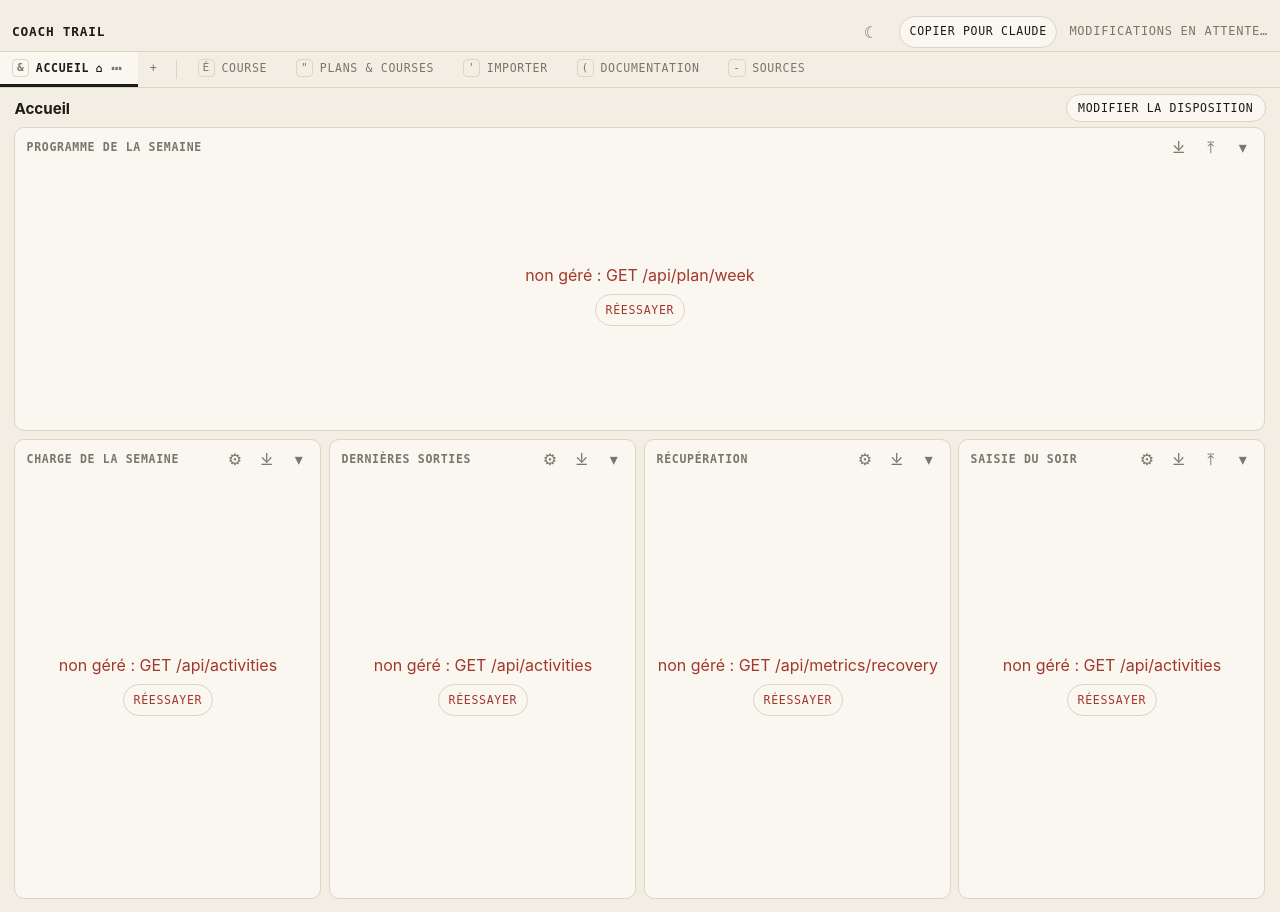
Test case: Menu ⋯ d'une page › se ferme avec Échap
Click the button named "Nouvelle page" at {"x": 154, "y": 70}, box [138,52,169,87]
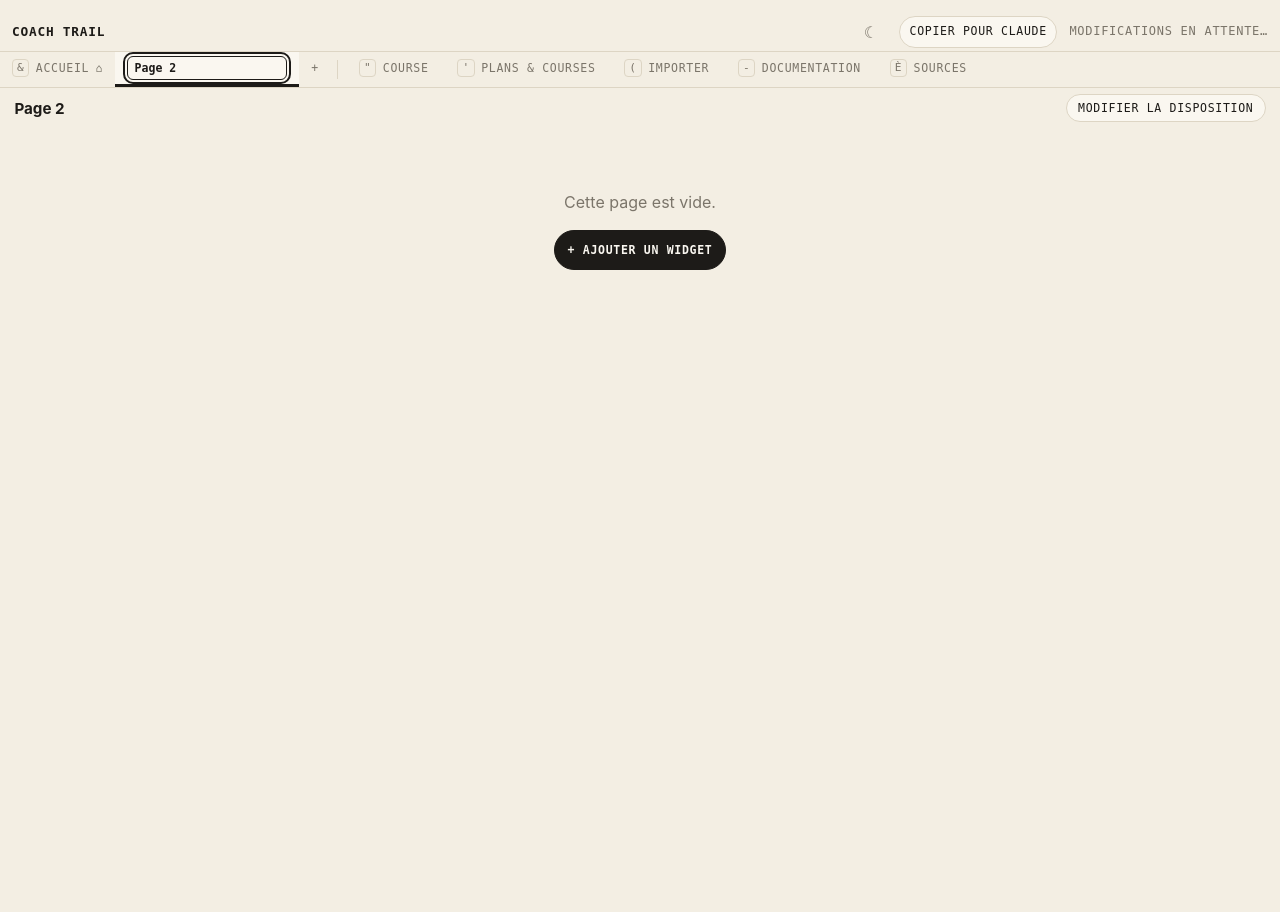
Press Enter
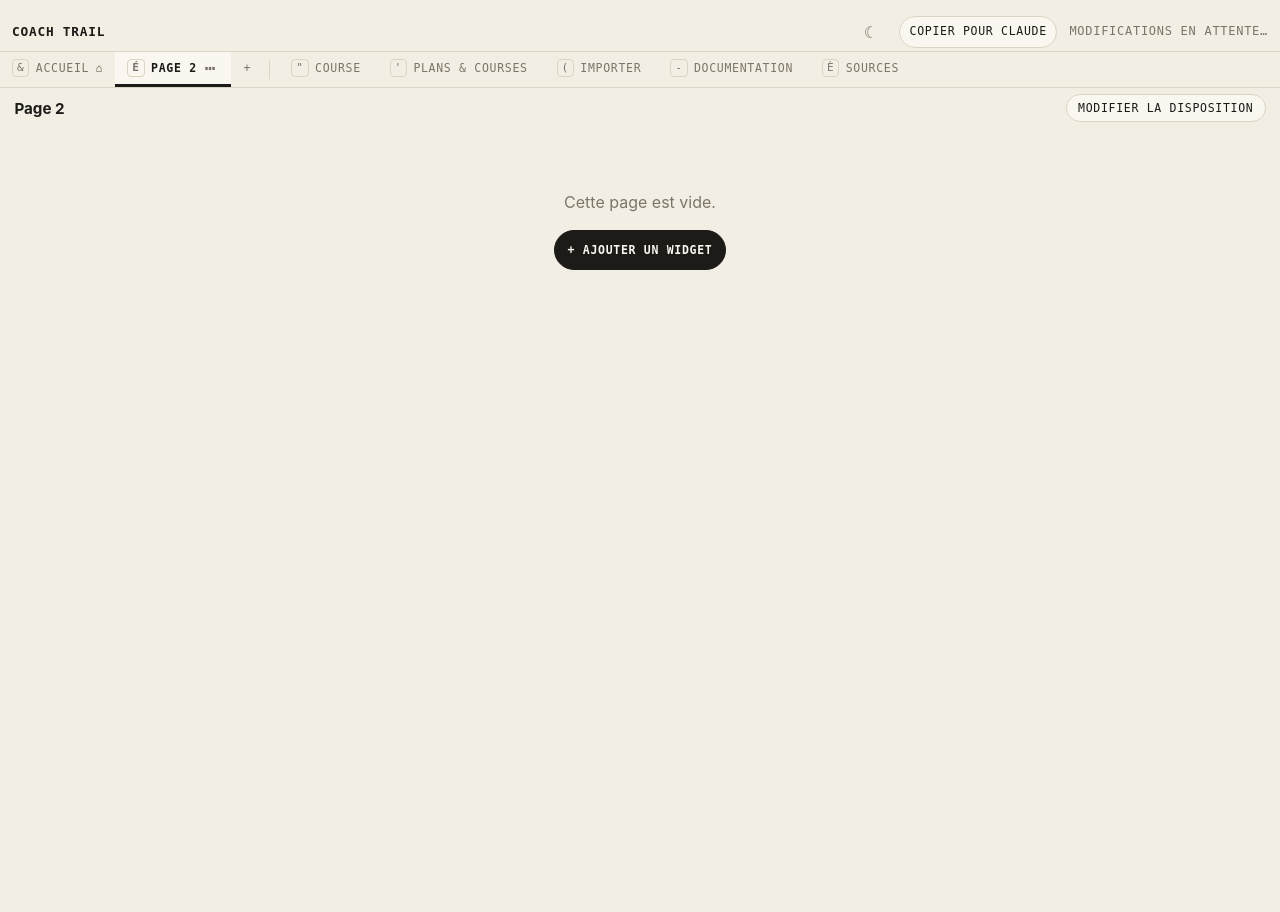
Click the button named "Actions de la page" at {"x": 210, "y": 68}, box [201,56,219,80]
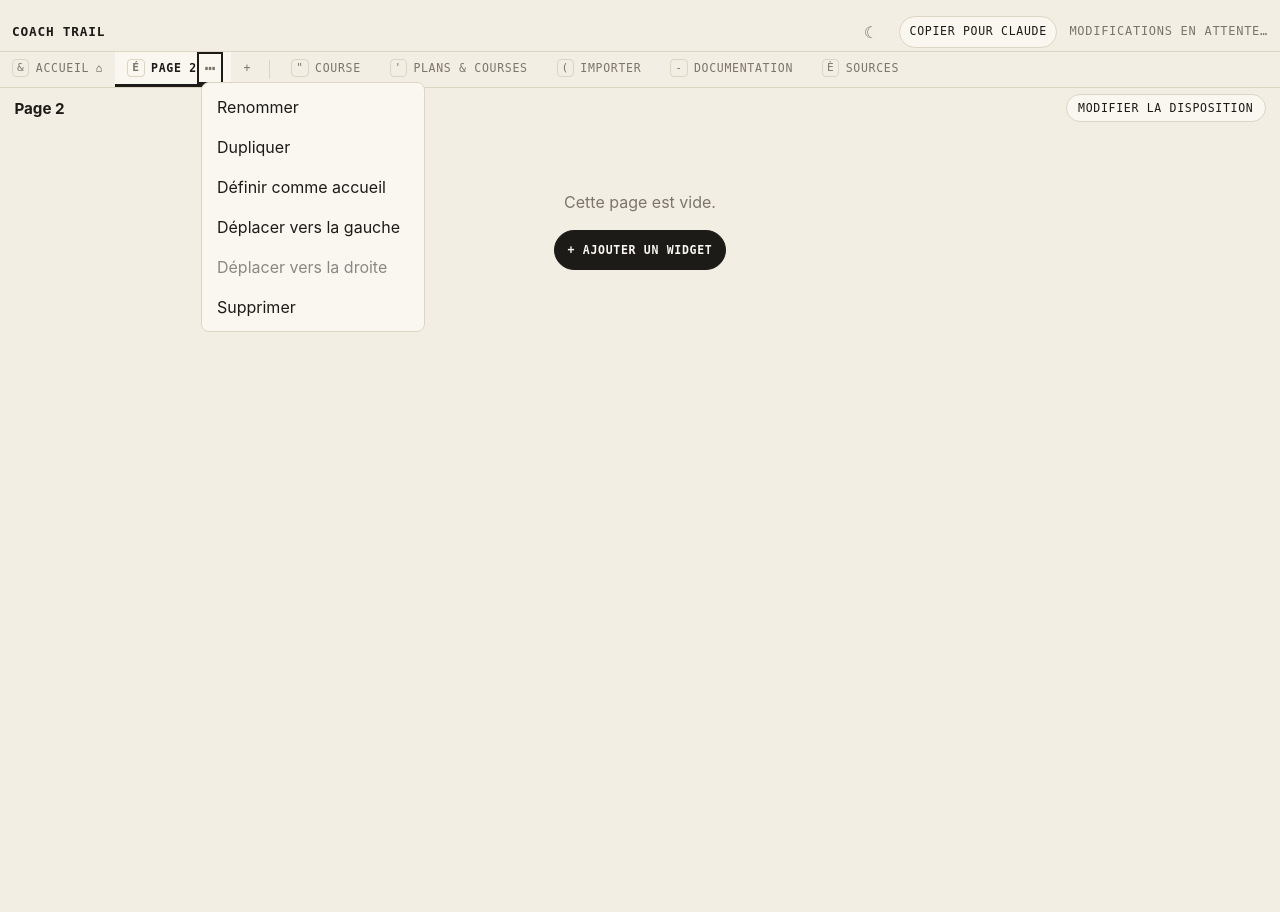
Expected: the menu is shown, [201,82,425,332]
Press Escape
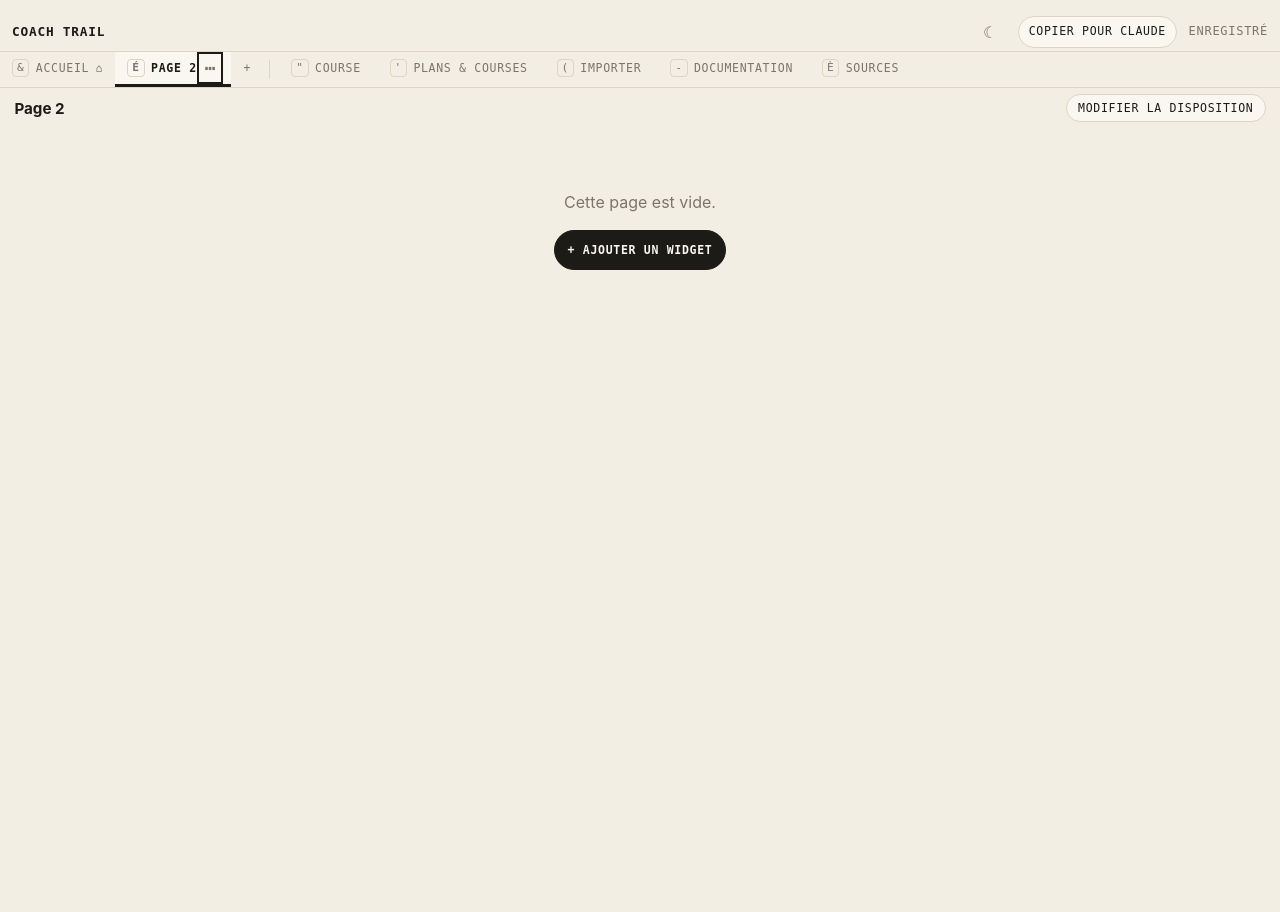
Expected: the menu is gone
